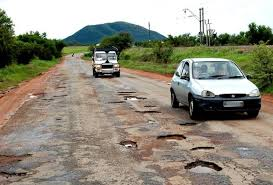pothole: (1, 152, 30, 183), (184, 158, 222, 177), (156, 132, 188, 146), (119, 137, 140, 151), (192, 143, 216, 154), (119, 91, 141, 103), (138, 105, 161, 115), (176, 121, 198, 129)
